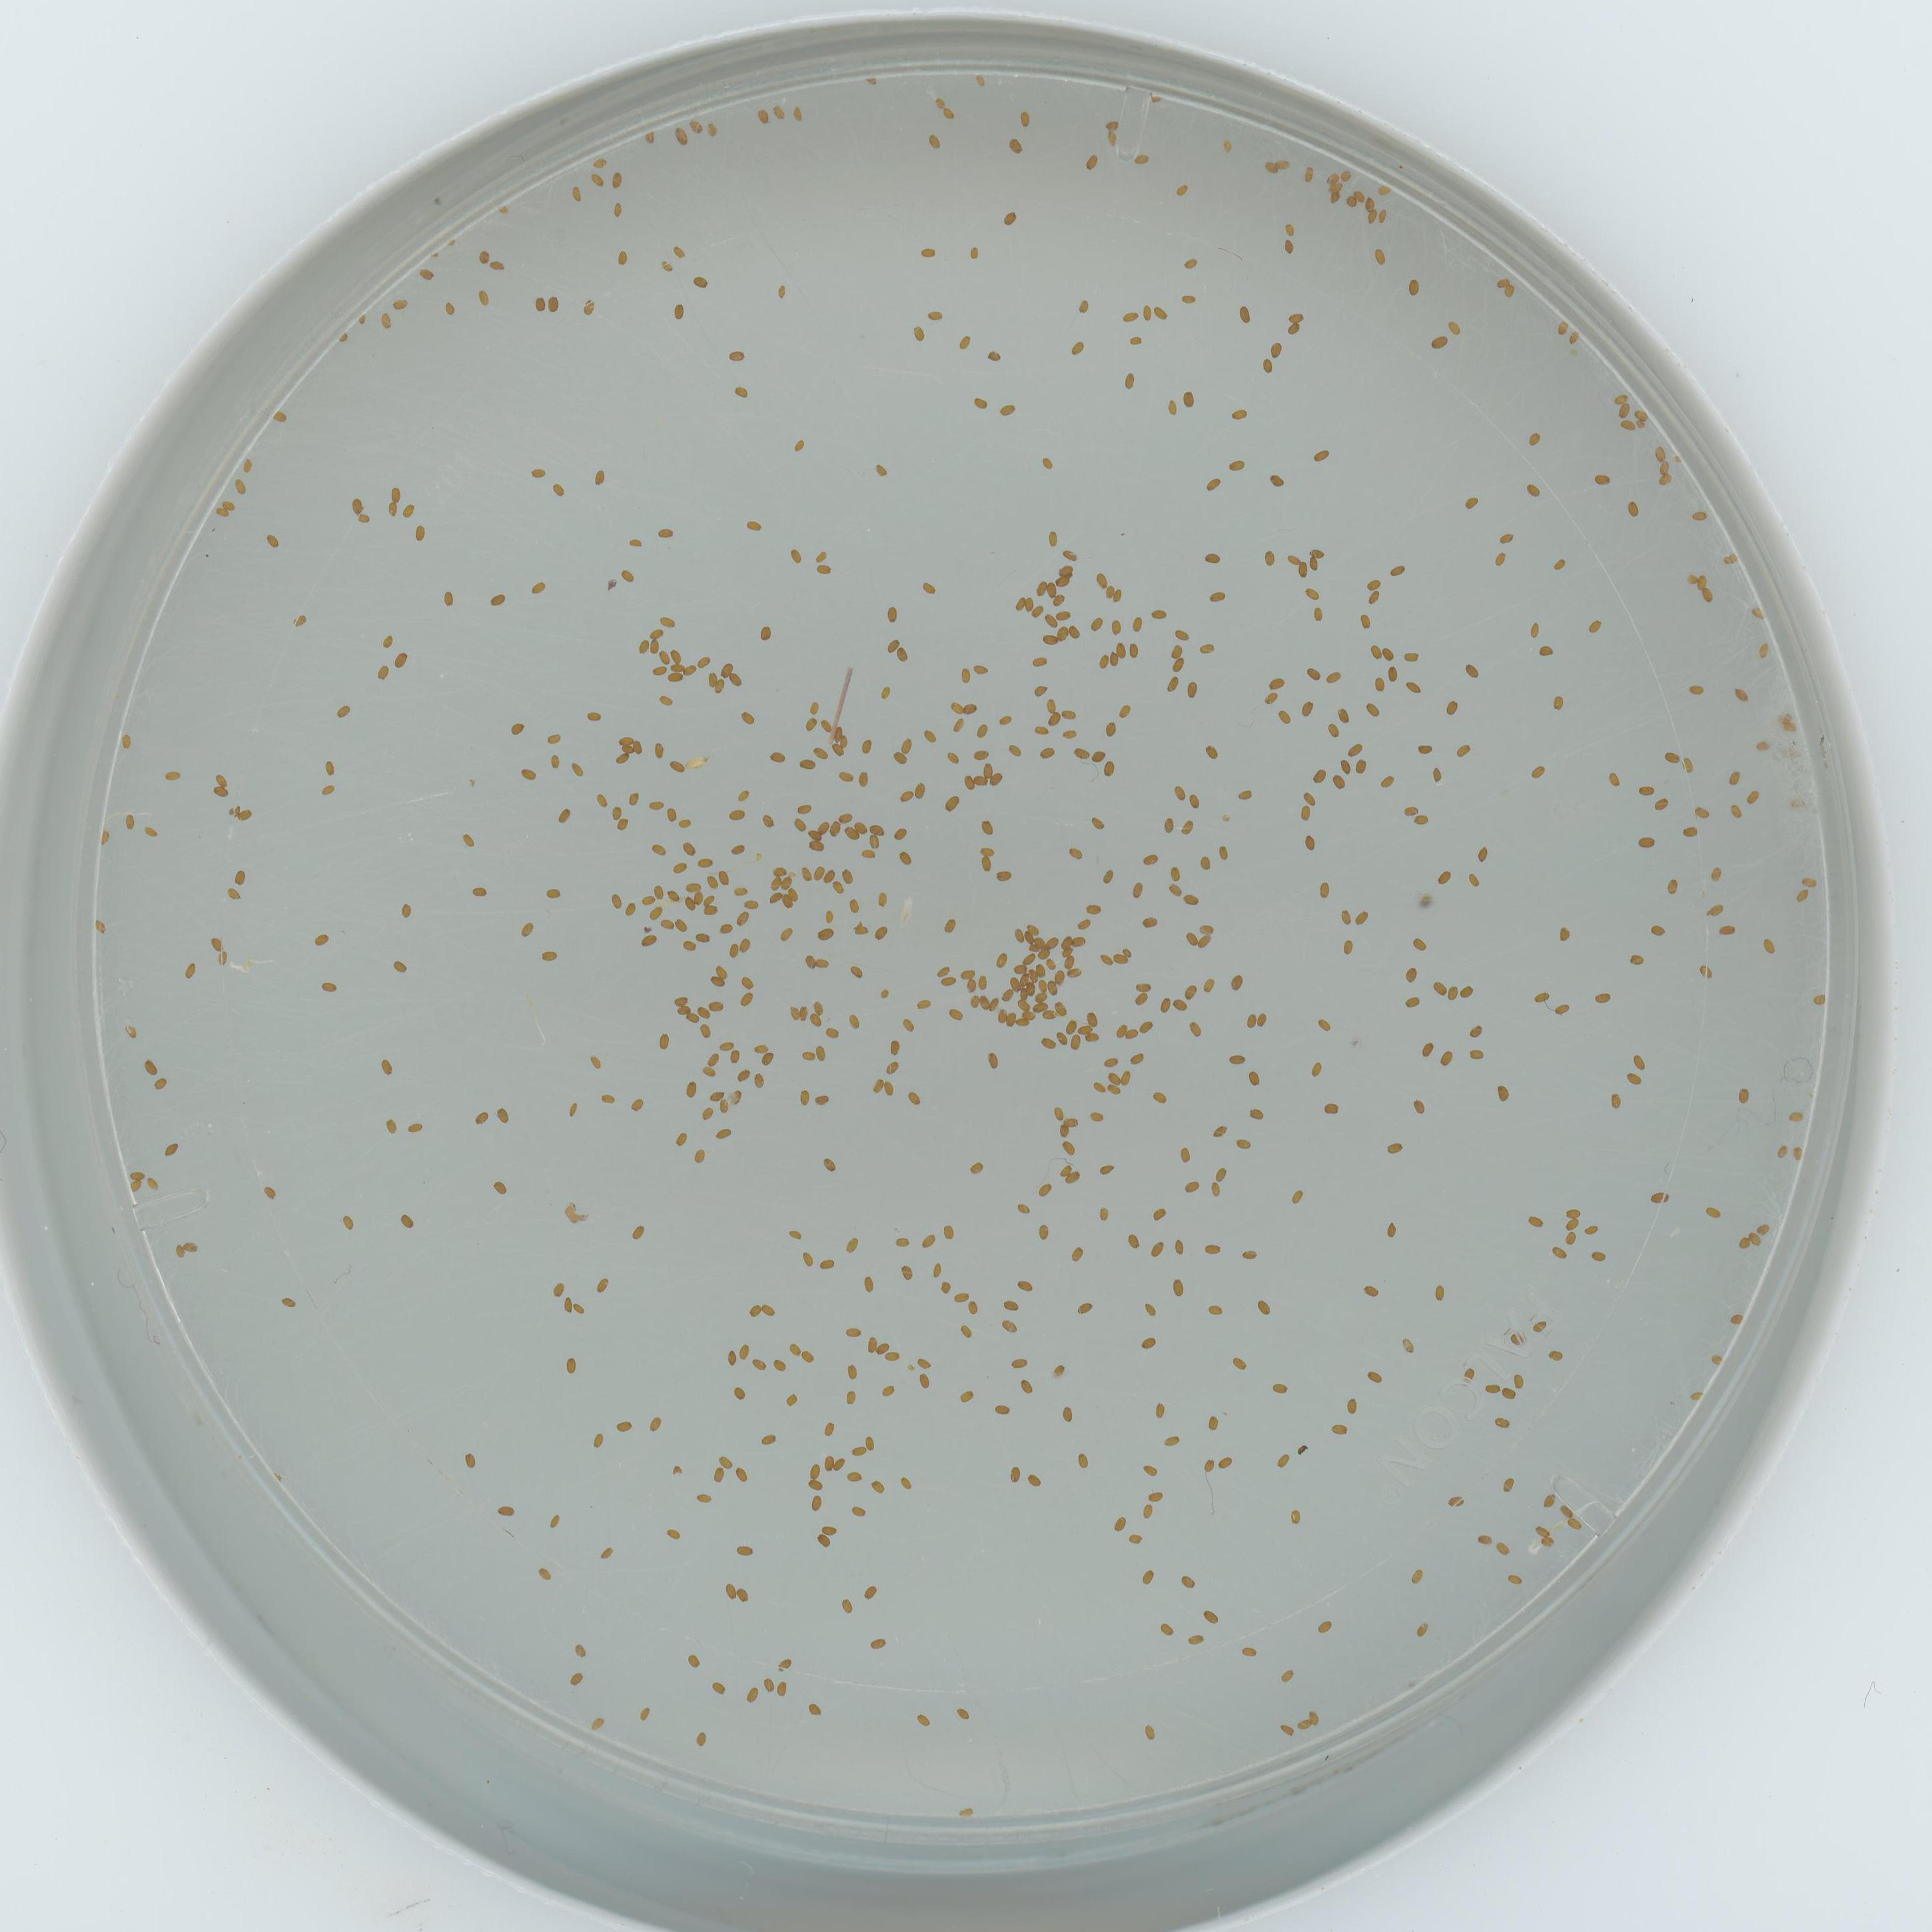seed: (695, 1021, 715, 1040), (683, 1079, 702, 1099), (1430, 331, 1449, 350), (1697, 962, 1716, 982), (225, 885, 244, 904), (1430, 1283, 1447, 1304), (672, 127, 690, 147), (885, 1039, 904, 1056), (672, 1129, 690, 1148), (1007, 136, 1024, 156), (1624, 501, 1644, 518), (1405, 278, 1422, 297), (1001, 1295, 1021, 1313), (1343, 1396, 1362, 1414), (909, 324, 927, 343), (92, 918, 111, 936), (225, 800, 242, 819), (1649, 1191, 1672, 1205), (885, 605, 902, 623), (391, 651, 409, 669), (400, 501, 418, 518), (633, 637, 651, 655), (410, 524, 428, 541), (870, 819, 888, 837), (142, 1056, 159, 1074), (377, 1056, 395, 1074), (182, 962, 200, 980), (405, 1116, 423, 1134), (393, 957, 410, 975), (563, 1355, 580, 1373), (398, 1212, 416, 1230), (761, 1430, 778, 1447), (807, 1702, 824, 1720), (1369, 676, 1387, 694), (1267, 341, 1284, 359), (1178, 389, 1196, 407), (1235, 304, 1253, 322), (1461, 662, 1479, 679), (1594, 469, 1612, 487), (1345, 740, 1362, 757), (1638, 833, 1656, 851), (1525, 621, 1543, 639), (1329, 773, 1346, 791), (1300, 833, 1318, 851), (978, 819, 996, 837), (1000, 207, 1017, 225), (1180, 681, 1198, 699), (1016, 1276, 1033, 1293), (1495, 1083, 1513, 1100), (1033, 1223, 1051, 1240), (1631, 1051, 1649, 1069), (1254, 1297, 1272, 1315), (1169, 1279, 1187, 1297), (1746, 1230, 1764, 1247), (1541, 1491, 1559, 1509), (1461, 1368, 1479, 1385), (1401, 1338, 1419, 1355), (1530, 1318, 1548, 1336), (1707, 1353, 1725, 1371), (1729, 1309, 1746, 1327), (1755, 1221, 1773, 1238), (1787, 1108, 1805, 1125), (1812, 991, 1829, 1008), (1681, 823, 1698, 840), (1801, 872, 1819, 890), (1794, 888, 1812, 906), (1102, 115, 1120, 133), (1132, 150, 1150, 168), (1299, 166, 1316, 184), (290, 610, 308, 628), (679, 842, 699, 858), (817, 924, 837, 939), (694, 929, 713, 945), (568, 184, 584, 203), (262, 1184, 278, 1203), (1362, 702, 1382, 718), (1435, 870, 1454, 886), (1332, 708, 1352, 724), (1387, 563, 1407, 579), (959, 667, 975, 686), (1109, 1514, 1129, 1530), (1736, 1086, 1752, 1106), (1679, 755, 1695, 775), (1690, 508, 1709, 524), (119, 731, 134, 750), (239, 807, 255, 826), (533, 294, 547, 315), (674, 916, 692, 932), (874, 893, 892, 909), (398, 901, 414, 918), (731, 807, 748, 823), (665, 888, 683, 904), (837, 770, 855, 786), (520, 766, 538, 782), (770, 748, 787, 764), (648, 906, 665, 922), (207, 934, 223, 952), (640, 931, 658, 947), (264, 533, 281, 548), (669, 759, 686, 775), (945, 794, 961, 812), (607, 893, 625, 909), (545, 731, 563, 747), (545, 295, 563, 311), (814, 745, 832, 761), (591, 469, 609, 485), (660, 612, 678, 628), (476, 248, 492, 265), (925, 134, 943, 150), (732, 883, 750, 899), (232, 869, 248, 886), (460, 833, 478, 849), (320, 761, 338, 777), (796, 800, 814, 816), (925, 306, 943, 322), (727, 347, 745, 363), (692, 272, 709, 288), (697, 855, 715, 870), (727, 672, 745, 688), (892, 826, 909, 842), (778, 925, 796, 941), (816, 955, 833, 971), (497, 1502, 515, 1518), (472, 1108, 490, 1123), (824, 1023, 842, 1039), (630, 1223, 648, 1238), (784, 1391, 801, 1407), (616, 1417, 633, 1433), (899, 1265, 916, 1281), (495, 1108, 513, 1123), (846, 1012, 863, 1028), (821, 1419, 839, 1435), (844, 1237, 862, 1253), (947, 1003, 962, 1021), (870, 1635, 888, 1651), (915, 1713, 932, 1729), (844, 1362, 862, 1378), (819, 1254, 837, 1270), (800, 1249, 817, 1265), (752, 1072, 770, 1088), (915, 1373, 932, 1389), (807, 1477, 824, 1493), (722, 1582, 738, 1599), (708, 1086, 725, 1102), (809, 1495, 826, 1511), (862, 1276, 878, 1293), (736, 1541, 754, 1557), (568, 1670, 586, 1686), (589, 1433, 607, 1449), (738, 1343, 754, 1361), (732, 1465, 750, 1481), (846, 1468, 863, 1484), (736, 1587, 754, 1603), (656, 1031, 672, 1049), (796, 1088, 814, 1104), (280, 1293, 295, 1311), (954, 1706, 971, 1721), (1323, 724, 1341, 740), (1159, 817, 1177, 833), (993, 952, 1010, 968), (1122, 308, 1139, 324), (1267, 472, 1284, 488), (1228, 456, 1246, 472), (1201, 745, 1219, 761), (1465, 874, 1483, 890), (1230, 403, 1247, 419), (1638, 782, 1656, 798), (1086, 616, 1104, 632), (1129, 883, 1146, 899), (1311, 446, 1329, 462), (1663, 879, 1681, 895), (1037, 745, 1054, 761), (1401, 648, 1419, 663), (1284, 320, 1302, 336), (1274, 709, 1292, 725), (1474, 847, 1491, 863), (1214, 846, 1231, 862), (1074, 915, 1092, 931), (1338, 759, 1355, 775), (973, 724, 991, 740), (1309, 768, 1327, 784), (1605, 771, 1622, 787), (1100, 722, 1118, 738), (1401, 801, 1419, 817), (1384, 667, 1401, 683), (1550, 694, 1568, 709), (1299, 701, 1315, 718), (1067, 844, 1083, 862), (1652, 796, 1670, 812), (1410, 934, 1428, 950), (1261, 550, 1277, 568), (1258, 356, 1276, 372), (1339, 938, 1355, 955), (1106, 617, 1123, 633), (1729, 803, 1746, 819), (984, 347, 1001, 363), (1720, 920, 1737, 936), (1203, 476, 1221, 492), (1415, 741, 1433, 757), (1693, 807, 1711, 823), (1454, 743, 1472, 759), (1585, 617, 1603, 633), (1054, 605, 1070, 623), (1083, 156, 1100, 172), (1042, 531, 1060, 547), (1150, 607, 1168, 623), (1062, 545, 1079, 561), (1067, 623, 1085, 639), (1178, 288, 1196, 304), (1039, 632, 1056, 648), (1744, 789, 1762, 805), (1246, 1070, 1263, 1086), (1491, 1412, 1509, 1428), (1125, 1530, 1143, 1546), (1060, 1141, 1077, 1157), (1385, 1139, 1403, 1155), (1307, 1063, 1325, 1079), (1201, 1608, 1219, 1624), (1127, 1049, 1145, 1065), (1495, 1539, 1513, 1555), (1624, 1069, 1642, 1085), (1037, 1033, 1054, 1049), (1419, 1040, 1435, 1058), (1546, 1346, 1564, 1362), (1157, 1621, 1175, 1637), (1509, 1373, 1527, 1389), (1100, 1053, 1118, 1069), (1037, 1180, 1053, 1198), (1506, 1569, 1523, 1585), (1072, 1453, 1090, 1468), (1150, 1203, 1168, 1219), (1146, 1240, 1164, 1256), (1001, 1316, 1019, 1332), (1228, 1049, 1246, 1065), (1606, 1093, 1624, 1109), (1438, 1051, 1456, 1067), (1049, 1104, 1065, 1122), (1178, 1573, 1196, 1589), (1093, 1205, 1111, 1221), (1550, 1242, 1568, 1258), (1322, 1099, 1339, 1115), (1527, 1212, 1545, 1228), (1552, 1000, 1569, 1016), (1014, 1198, 1031, 1214), (1053, 1000, 1070, 1016), (1240, 1644, 1258, 1660), (959, 1387, 977, 1403), (1065, 1171, 1083, 1187), (1408, 1569, 1426, 1585), (1476, 1532, 1493, 1548), (1534, 1522, 1552, 1537), (1499, 1477, 1516, 1493), (1559, 1502, 1576, 1518), (1509, 1330, 1525, 1348), (1688, 1387, 1706, 1403), (1771, 1145, 1789, 1161), (1707, 902, 1725, 918), (1707, 867, 1725, 883), (1755, 642, 1773, 658), (1752, 605, 1769, 621), (1700, 587, 1718, 603), (1721, 552, 1739, 568), (1658, 472, 1675, 488), (1652, 448, 1670, 464), (1612, 389, 1629, 405), (1502, 285, 1520, 301), (1007, 1465, 1023, 1483), (1104, 129, 1122, 145), (1219, 138, 1237, 154), (1263, 159, 1279, 177), (1276, 154, 1293, 170), (759, 1675, 777, 1691), (853, 922, 870, 938), (931, 94, 947, 111), (754, 108, 771, 124), (702, 122, 720, 138), (640, 129, 658, 145), (354, 510, 372, 525), (382, 502, 400, 518), (418, 265, 435, 281), (182, 1238, 198, 1256), (173, 1242, 189, 1260), (145, 1177, 163, 1192), (129, 1166, 145, 1184), (127, 1178, 143, 1196), (122, 1023, 140, 1039), (807, 840, 826, 855), (609, 170, 623, 189), (816, 1044, 830, 1063), (1017, 952, 1037, 966), (1187, 1019, 1201, 1039), (1120, 1069, 1134, 1088), (1445, 1495, 1465, 1509), (1493, 274, 1513, 288), (379, 311, 393, 331), (1238, 1247, 1260, 1260), (163, 770, 184, 782), (759, 625, 775, 640), (510, 720, 525, 736), (718, 662, 734, 678), (441, 591, 456, 607), (941, 918, 957, 934), (897, 851, 913, 867), (313, 931, 329, 947), (531, 579, 547, 594), (658, 524, 674, 540), (842, 869, 858, 885), (858, 740, 874, 755), (607, 803, 623, 819), (651, 842, 667, 858), (858, 771, 874, 787), (945, 750, 961, 766), (920, 580, 936, 596), (672, 862, 688, 878), (586, 708, 602, 724), (589, 173, 605, 189), (211, 786, 226, 801), (490, 591, 506, 607), (651, 663, 667, 679), (651, 743, 667, 759), (375, 663, 391, 679), (334, 702, 350, 718), (731, 842, 747, 858), (847, 897, 863, 913), (740, 938, 755, 954), (626, 791, 642, 807), (897, 789, 913, 805), (695, 653, 711, 669), (885, 637, 901, 653), (556, 809, 571, 824), (570, 763, 586, 778), (531, 465, 547, 481), (550, 481, 566, 497), (874, 462, 890, 478), (621, 901, 637, 916), (379, 633, 395, 649), (761, 812, 777, 828), (387, 485, 403, 501), (734, 384, 750, 400), (793, 817, 809, 833), (948, 718, 964, 734), (685, 878, 701, 893), (874, 924, 890, 939), (614, 248, 630, 264), (787, 548, 803, 564), (740, 709, 755, 725), (594, 793, 610, 809), (798, 867, 814, 883), (232, 478, 248, 494), (663, 807, 679, 823), (736, 787, 752, 803), (651, 883, 667, 899), (669, 648, 685, 663), (816, 1090, 832, 1106), (462, 1453, 478, 1468), (863, 1583, 879, 1599), (853, 1502, 869, 1518), (844, 1389, 860, 1405), (929, 1260, 945, 1276), (492, 1177, 508, 1192), (870, 1479, 886, 1495), (648, 1415, 663, 1431), (709, 996, 725, 1012), (823, 1155, 839, 1171), (718, 1037, 734, 1053), (901, 1016, 916, 1031), (906, 1088, 922, 1104), (920, 1231, 936, 1247), (745, 1688, 761, 1704), (699, 1104, 715, 1120), (340, 1214, 356, 1230), (718, 1453, 734, 1468), (163, 1139, 179, 1155), (915, 1353, 931, 1369), (694, 1730, 709, 1746), (550, 1279, 566, 1295), (846, 1323, 862, 1339), (594, 1277, 610, 1293), (732, 1384, 748, 1399), (833, 1454, 849, 1470), (727, 1047, 743, 1063), (895, 1233, 911, 1249), (559, 1295, 575, 1311), (752, 1355, 768, 1371), (715, 1125, 731, 1141), (734, 1067, 750, 1083), (630, 1095, 646, 1111), (801, 1047, 817, 1063), (686, 1652, 702, 1668), (547, 1513, 563, 1529), (916, 996, 932, 1012), (152, 1074, 168, 1090), (754, 1039, 770, 1054), (745, 1302, 761, 1318), (711, 1467, 727, 1483), (573, 1644, 589, 1660), (637, 1706, 653, 1721), (899, 1474, 915, 1490), (724, 1350, 740, 1366), (775, 1681, 791, 1697), (939, 1223, 955, 1238), (598, 1545, 614, 1560), (1304, 586, 1320, 602), (1007, 741, 1023, 757), (1355, 909, 1371, 925), (1141, 853, 1157, 869), (1300, 791, 1316, 807), (1141, 913, 1157, 929), (1366, 575, 1382, 591), (1116, 702, 1132, 718), (1557, 925, 1573, 941), (1085, 901, 1100, 916), (1530, 764, 1546, 780), (1169, 658, 1185, 674), (1306, 665, 1322, 681), (1203, 548, 1219, 564), (1072, 745, 1088, 761), (978, 856, 994, 872), (1166, 883, 1182, 899), (1164, 676, 1180, 692), (1198, 640, 1214, 656), (1118, 373, 1134, 389), (1208, 587, 1224, 603), (1649, 922, 1665, 938), (1525, 481, 1541, 497), (1444, 699, 1460, 715), (1357, 612, 1373, 628), (1088, 816, 1104, 832), (1309, 607, 1325, 623), (996, 867, 1012, 883), (1527, 432, 1543, 448), (1663, 748, 1679, 764), (980, 844, 996, 860), (1405, 679, 1421, 695), (1338, 909, 1353, 925), (1129, 616, 1145, 632), (1237, 787, 1253, 803), (1325, 669, 1341, 685), (1297, 807, 1313, 823), (1162, 400, 1178, 416), (1727, 770, 1743, 786), (1166, 867, 1182, 883), (1537, 642, 1553, 658), (1316, 883, 1332, 899), (998, 711, 1014, 727), (1463, 494, 1479, 510), (1152, 304, 1168, 320), (1281, 219, 1297, 235), (1169, 786, 1185, 801), (1196, 856, 1212, 872), (966, 244, 982, 260), (1100, 761, 1116, 777), (1185, 794, 1201, 810), (1366, 644, 1382, 660), (1279, 237, 1295, 253), (1353, 759, 1369, 775), (1182, 255, 1198, 271), (1760, 938, 1776, 954), (1552, 556, 1568, 571), (1371, 248, 1387, 264), (1016, 111, 1031, 127), (1010, 1353, 1026, 1369), (1468, 1044, 1484, 1060), (1484, 1378, 1500, 1394), (1169, 1238, 1185, 1254), (1270, 1378, 1286, 1394), (1026, 1472, 1042, 1488), (1460, 982, 1476, 998), (1203, 1240, 1219, 1256), (1171, 996, 1187, 1012), (1330, 1421, 1346, 1437), (1146, 1488, 1162, 1504), (1217, 1454, 1233, 1470), (1228, 973, 1244, 989), (1316, 1619, 1332, 1635), (1155, 996, 1171, 1012), (1315, 1016, 1330, 1031), (1138, 1017, 1154, 1033), (1182, 982, 1198, 998), (1187, 1631, 1203, 1647), (1366, 1368, 1382, 1384), (1150, 1401, 1166, 1417), (1362, 1283, 1378, 1299), (1139, 1334, 1155, 1350), (1562, 1230, 1578, 1246), (1141, 1463, 1157, 1479), (985, 1053, 1001, 1069), (1247, 1104, 1263, 1120), (1403, 968, 1419, 984), (1410, 1097, 1426, 1113), (1017, 1378, 1033, 1394), (1382, 1221, 1398, 1237), (1058, 1407, 1074, 1422), (1405, 993, 1421, 1008), (1212, 1164, 1228, 1180), (1141, 1300, 1157, 1316), (1076, 1299, 1092, 1315), (1274, 1453, 1290, 1468), (1088, 1108, 1104, 1123), (1099, 1161, 1115, 1177), (1235, 1134, 1251, 1150), (1141, 1725, 1157, 1741), (1706, 1201, 1721, 1217), (1067, 1033, 1083, 1049), (1414, 1622, 1430, 1638), (1502, 1385, 1518, 1401), (1242, 1012, 1258, 1028), (1069, 1246, 1085, 1261), (1177, 1146, 1192, 1162), (1150, 1088, 1166, 1104), (1290, 1187, 1306, 1203), (1113, 1023, 1129, 1039), (1736, 1233, 1752, 1249), (1539, 1536, 1555, 1552), (1566, 1516, 1582, 1532), (1555, 320, 1571, 336), (1378, 180, 1394, 196), (1339, 166, 1355, 182), (1279, 1721, 1295, 1737), (1288, 1509, 1304, 1525), (973, 73, 989, 88), (775, 1660, 791, 1675), (885, 1060, 901, 1076), (731, 1090, 747, 1106), (801, 954, 817, 970), (658, 258, 674, 274), (862, 74, 878, 90), (789, 104, 805, 120), (771, 104, 787, 120), (688, 119, 704, 134), (593, 156, 609, 172), (669, 1463, 685, 1479), (349, 497, 364, 513), (271, 407, 287, 423), (495, 202, 511, 218), (1212, 1123, 1228, 1139), (800, 757, 817, 771), (734, 911, 752, 925), (541, 947, 559, 961), (471, 885, 488, 899), (743, 897, 761, 911), (518, 922, 536, 936), (545, 886, 563, 901), (745, 517, 763, 531), (816, 563, 833, 577), (839, 810, 856, 824), (704, 872, 718, 890), (717, 920, 734, 934), (812, 863, 826, 881), (724, 943, 741, 957), (832, 741, 846, 759), (142, 824, 159, 839), (239, 458, 257, 472), (826, 823, 844, 837), (855, 819, 872, 833), (821, 1522, 839, 1536), (600, 1090, 617, 1104), (757, 1051, 775, 1065), (701, 1063, 718, 1077), (738, 991, 755, 1005), (709, 1681, 727, 1695), (849, 966, 867, 980), (851, 1444, 869, 1458), (382, 1120, 400, 1134), (704, 1051, 722, 1065), (690, 1148, 708, 1162), (823, 1454, 837, 1472), (952, 1290, 970, 1304), (784, 1341, 801, 1355), (1178, 821, 1196, 835), (1412, 814, 1430, 828), (1030, 655, 1047, 669), (1286, 308, 1304, 322), (1060, 727, 1077, 741), (1428, 768, 1445, 782), (1070, 934, 1088, 948), (1093, 952, 1111, 966), (1166, 644, 1184, 658), (1309, 545, 1327, 559), (1044, 580, 1058, 598), (1054, 626, 1069, 644), (1056, 563, 1074, 577), (1012, 596, 1030, 610), (1467, 1023, 1484, 1037), (1564, 1203, 1582, 1217), (1562, 1217, 1580, 1231), (1230, 1355, 1247, 1369), (1123, 1235, 1141, 1249), (1162, 1433, 1180, 1447), (1184, 1178, 1201, 1192), (1445, 984, 1460, 1001), (1046, 978, 1060, 996), (1056, 1162, 1074, 1177), (941, 104, 955, 122), (1327, 180, 1345, 195), (957, 1805, 975, 1819), (96, 830, 113, 844), (718, 870, 734, 885), (893, 752, 909, 766), (672, 304, 688, 318), (488, 258, 504, 272), (649, 625, 665, 639), (628, 534, 644, 548), (913, 784, 929, 798), (895, 648, 911, 662), (901, 740, 916, 754), (922, 729, 936, 745), (683, 897, 697, 913), (948, 701, 964, 715), (807, 701, 823, 715), (775, 283, 789, 299), (610, 202, 626, 216), (879, 686, 895, 701), (791, 437, 807, 451), (442, 301, 458, 315), (702, 904, 718, 918), (547, 755, 563, 770), (768, 892, 784, 906), (920, 244, 936, 258), (649, 798, 665, 812), (621, 568, 637, 582), (846, 828, 862, 842), (867, 833, 883, 847), (616, 819, 632, 833), (678, 817, 694, 832), (658, 918, 674, 932), (658, 694, 674, 708), (318, 782, 334, 796), (683, 662, 699, 676), (803, 717, 817, 732), (476, 290, 492, 304), (212, 771, 228, 786), (681, 938, 697, 952), (122, 816, 138, 830), (816, 819, 832, 833), (807, 828, 823, 842), (692, 892, 708, 906), (214, 950, 230, 964), (816, 1534, 832, 1548), (881, 1382, 897, 1396), (771, 1357, 787, 1371), (809, 1014, 824, 1028), (809, 1463, 824, 1477), (538, 1566, 554, 1580), (697, 1490, 713, 1504), (587, 1054, 603, 1069), (876, 1341, 892, 1355), (761, 1302, 777, 1316), (938, 1277, 952, 1293), (886, 1350, 902, 1364), (814, 1001, 828, 1017), (740, 975, 755, 989), (936, 966, 952, 980), (801, 1348, 817, 1362), (789, 1224, 803, 1240), (697, 1003, 713, 1017), (870, 1077, 885, 1093), (665, 1527, 681, 1541), (674, 993, 690, 1007), (566, 1100, 580, 1116), (1044, 713, 1060, 727), (1499, 531, 1514, 545), (1033, 724, 1049, 738), (1491, 552, 1507, 566), (971, 395, 987, 409), (1182, 931, 1198, 945), (1125, 642, 1139, 658), (1182, 893, 1198, 908), (1090, 748, 1106, 763), (1042, 697, 1056, 713), (1040, 614, 1056, 628), (1382, 646, 1396, 662), (1629, 950, 1645, 964), (1198, 920, 1214, 934), (998, 402, 1014, 416), (1269, 676, 1284, 690), (1093, 571, 1108, 587), (1067, 340, 1083, 354), (1378, 775, 1394, 789), (973, 747, 989, 761), (1447, 320, 1463, 334), (1196, 934, 1212, 948), (1024, 922, 1040, 936), (1173, 628, 1189, 642), (1099, 870, 1115, 885), (1366, 591, 1382, 605), (1261, 692, 1277, 706), (973, 662, 987, 678), (1125, 333, 1141, 347), (1046, 934, 1060, 950), (1060, 708, 1076, 722), (1109, 587, 1123, 603), (962, 702, 977, 718), (973, 773, 989, 787), (1362, 196, 1376, 212), (1076, 297, 1090, 313), (1033, 580, 1047, 596), (1039, 456, 1054, 471), (1111, 952, 1127, 966), (1688, 683, 1704, 697), (1054, 573, 1070, 587), (1350, 188, 1366, 202), (1062, 955, 1077, 970), (1619, 418, 1635, 432), (1173, 180, 1189, 195), (993, 1401, 1008, 1415), (1054, 1031, 1070, 1046), (1083, 1030, 1099, 1044), (1201, 977, 1215, 993), (1596, 991, 1612, 1005), (1085, 1012, 1100, 1026), (1591, 1247, 1606, 1261), (1205, 1415, 1221, 1430), (1106, 1081, 1122, 1095), (1534, 989, 1550, 1003), (1131, 993, 1146, 1007), (1207, 1302, 1223, 1316), (1279, 1668, 1295, 1683), (966, 1300, 980, 1316), (1139, 1569, 1155, 1583), (1090, 1079, 1106, 1093), (1198, 1458, 1214, 1472), (1207, 1182, 1223, 1196), (1256, 1012, 1270, 1028), (1583, 1221, 1599, 1235), (1138, 1504, 1154, 1518), (1134, 978, 1150, 993), (968, 1159, 984, 1173), (1053, 970, 1067, 985), (1063, 1113, 1079, 1127), (977, 975, 991, 991), (957, 1325, 973, 1339), (839, 734, 853, 750), (1755, 740, 1771, 754), (1783, 722, 1799, 736), (1778, 709, 1794, 724), (1734, 688, 1750, 702), (1686, 570, 1700, 586), (1568, 331, 1583, 345), (1295, 1718, 1311, 1732), (1307, 1711, 1323, 1725), (1053, 1364, 1069, 1378), (591, 1716, 607, 1730), (580, 301, 596, 315), (671, 244, 686, 258), (393, 297, 409, 311), (667, 672, 685, 685), (320, 980, 338, 993), (957, 968, 975, 980), (980, 761, 993, 778), (1113, 640, 1125, 658), (1058, 1122, 1070, 1139), (968, 991, 980, 1008), (1065, 966, 1083, 978), (1031, 1001, 1049, 1014), (867, 1336, 878, 1355), (832, 881, 846, 895), (773, 862, 787, 876), (823, 909, 837, 924), (823, 869, 837, 883), (713, 679, 727, 694), (862, 847, 876, 862), (957, 336, 971, 350), (865, 1435, 879, 1449), (573, 1300, 587, 1315), (989, 773, 1003, 787), (1284, 552, 1299, 566), (1306, 557, 1320, 571), (1615, 403, 1629, 418), (1293, 563, 1307, 577), (1010, 927, 1024, 941), (1058, 936, 1072, 950), (1035, 948, 1049, 962), (1106, 1072, 1120, 1086), (1433, 980, 1447, 994), (1007, 977, 1021, 991), (1789, 1146, 1803, 1161), (1658, 460, 1672, 474), (1635, 407, 1649, 421), (356, 311, 370, 326), (616, 734, 632, 747), (821, 718, 833, 734), (814, 550, 830, 563), (614, 754, 630, 766), (939, 975, 955, 987), (883, 1079, 895, 1095), (708, 975, 724, 987), (789, 1005, 801, 1021), (715, 966, 731, 978), (1031, 683, 1047, 695), (1139, 304, 1152, 320), (1102, 584, 1115, 600), (1051, 594, 1067, 607), (1044, 957, 1056, 973), (1125, 1028, 1141, 1040), (1063, 1021, 1079, 1033), (1001, 985, 1014, 1001), (1021, 1008, 1037, 1021), (1366, 209, 1378, 225), (842, 1598, 855, 1614), (1697, 575, 1709, 591), (1376, 209, 1389, 225), (878, 985, 893, 998), (212, 506, 228, 518), (221, 499, 237, 511), (1005, 1010, 1016, 1028), (1016, 1001, 1033, 1012), (1037, 977, 1047, 994), (1146, 96, 1164, 106), (642, 893, 656, 906), (649, 639, 662, 653), (704, 672, 717, 686), (787, 888, 801, 901), (632, 741, 644, 755), (768, 878, 782, 890), (669, 663, 683, 676), (780, 895, 794, 908), (832, 725, 844, 740), (685, 1012, 699, 1024), (798, 1007, 810, 1021), (1120, 947, 1134, 959), (1030, 605, 1044, 617), (1345, 193, 1357, 207), (1042, 1008, 1056, 1021), (1014, 962, 1028, 975), (1327, 172, 1339, 186), (964, 978, 977, 993), (964, 775, 975, 791), (1099, 655, 1109, 671), (1077, 1023, 1093, 1033), (1026, 982, 1037, 998), (1028, 968, 1039, 984), (676, 1005, 692, 1016), (1109, 651, 1120, 667), (718, 1099, 729, 1115), (991, 994, 1000, 1012), (980, 994, 989, 1012), (780, 878, 793, 890), (658, 653, 671, 665), (702, 893, 715, 906), (1329, 191, 1341, 203), (336, 331, 349, 343), (1033, 938, 1047, 948), (1019, 987, 1030, 1001), (1037, 962, 1046, 978), (998, 1008, 1007, 1024), (1024, 596, 1033, 612), (1019, 973, 1028, 989), (1058, 948, 1074, 957), (621, 745, 633, 755), (1035, 993, 1047, 1003), (1635, 419, 1647, 430), (1024, 931, 1033, 945), (1016, 1019, 1030, 1026), (1028, 945, 1039, 952)
